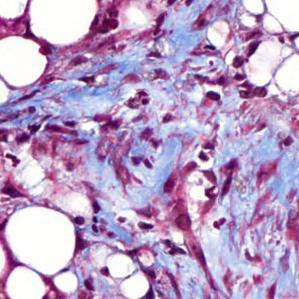steatosis: (2, 207, 87, 274)
